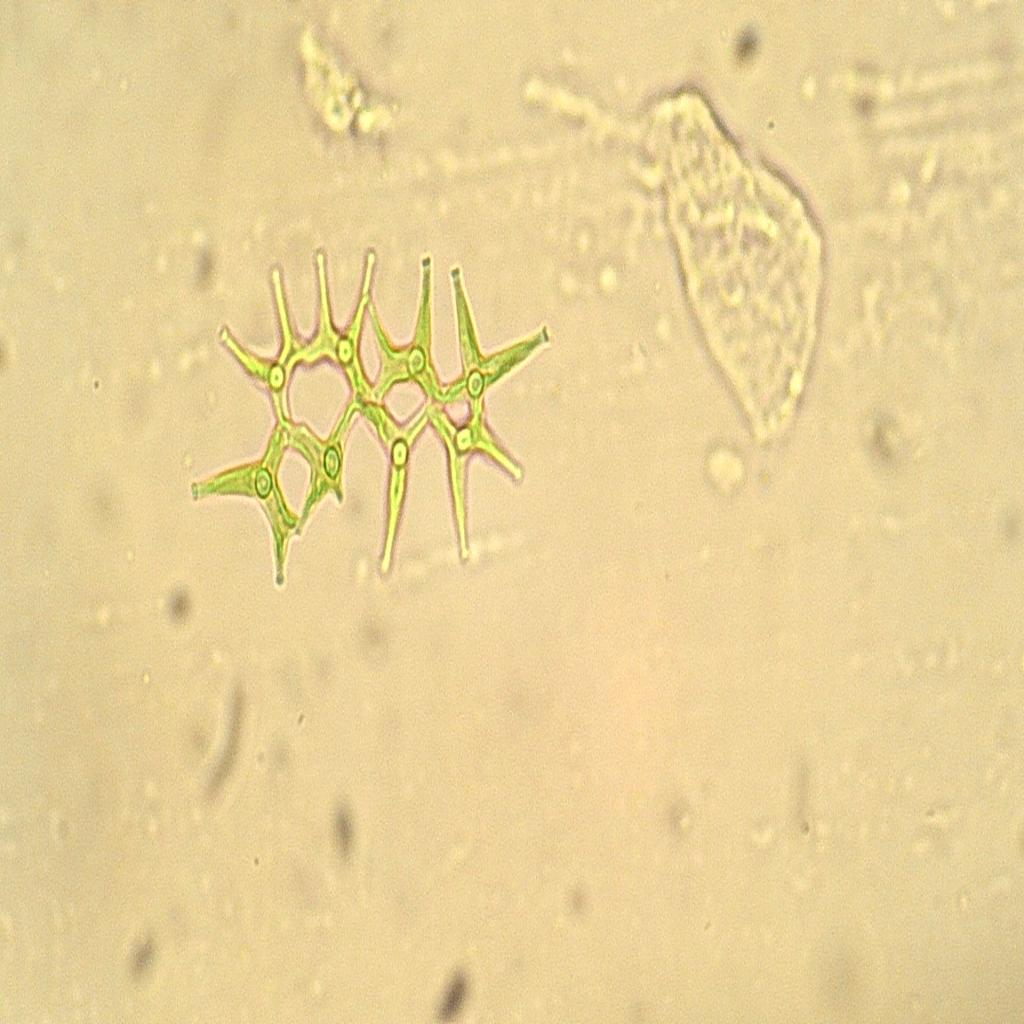Pediastrum_CFI: (175, 235, 575, 598)
